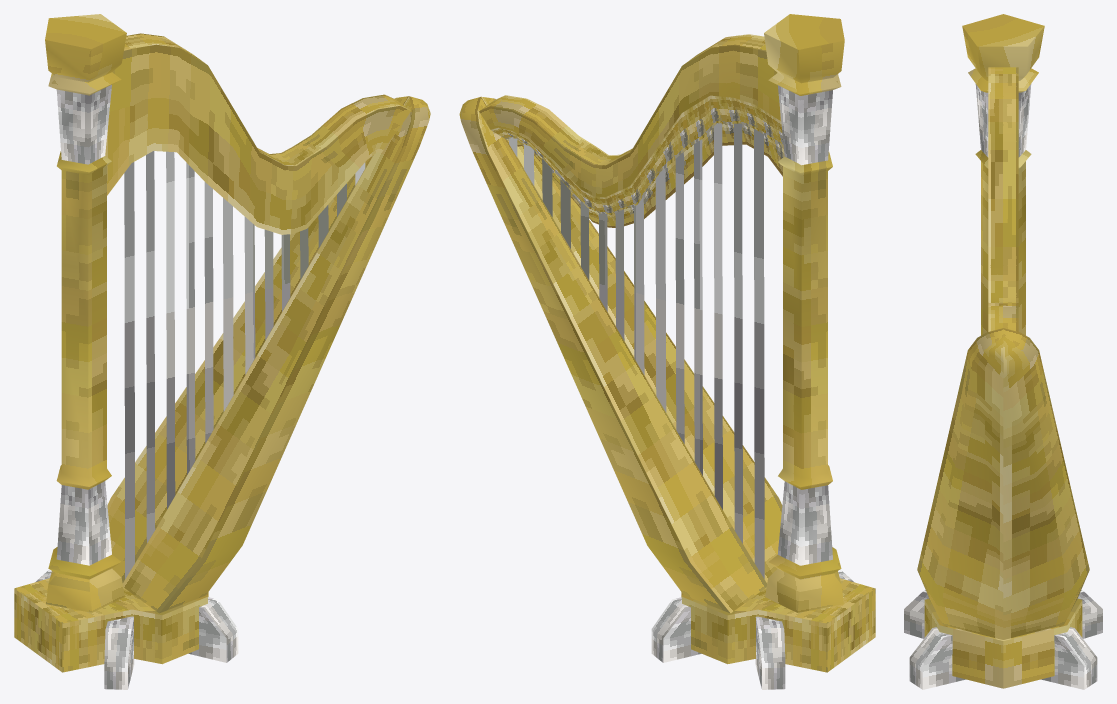
File: o-harpu1.glb
3 views of the same model, side by side, from view 1: azimuth 30°, elevation 25°; view 2: azimuth 150°, elevation 25°; view 3: azimuth 270°, elevation 25° (orthographic). The views are drawn at different scales.
Visible parts, largest first — view 1: o_harpu1; view 2: o_harpu1; view 3: o_harpu1.
Boxes of the visible parts, x1=… form: o_harpu1: x1=14, y1=14, x2=430, y2=689; o_harpu1: x1=459, y1=14, x2=875, y2=689; o_harpu1: x1=904, y1=14, x2=1102, y2=689.
Size of the model in its own units: 235 by 355 by 106.
4 materials, 4 textured.
